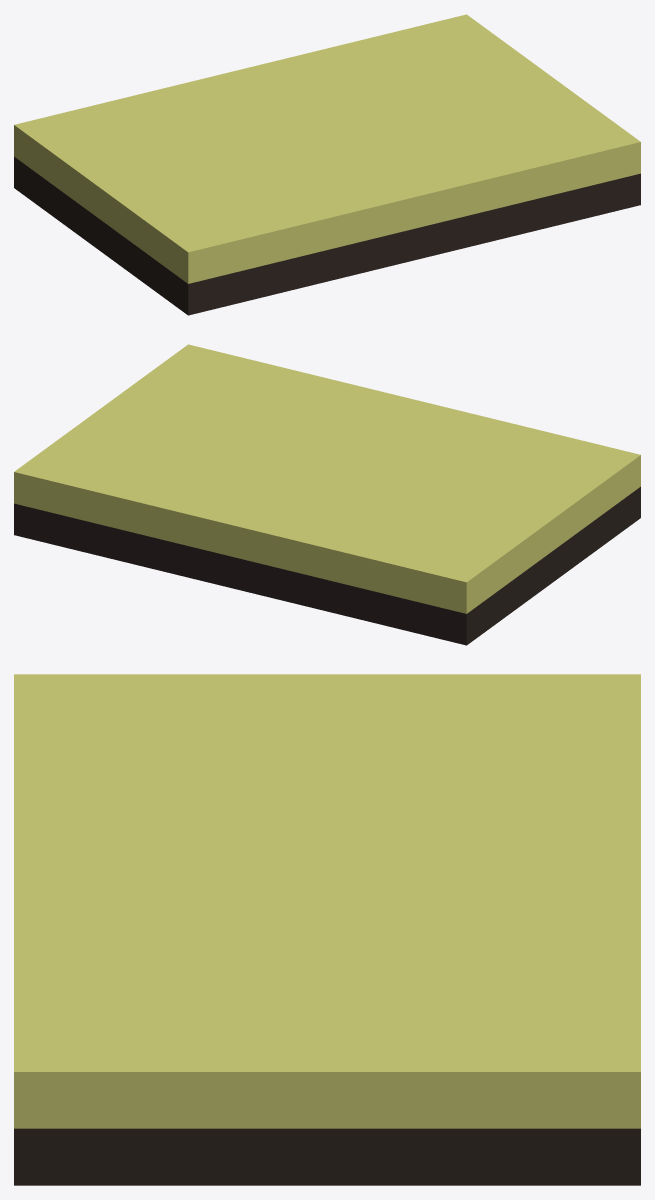
File: Basic Platform.fbx
The picture shows the model from 3 angles, top to bottom: view 1: azimuth 30°, elevation 25°; view 2: azimuth 150°, elevation 25°; view 3: azimuth 270°, elevation 25°; orthographic projection. The views are drawn at different scales.
Visible parts, largest first — view 1: Basic Platform; view 2: Basic Platform; view 3: Basic Platform.
Part boxes in pixels (<box>): Basic Platform: <box>14,14,640,315</box>; Basic Platform: <box>14,344,640,645</box>; Basic Platform: <box>14,674,640,1185</box>.
Size of the model in its own units: 3000 by 400 by 2000.
